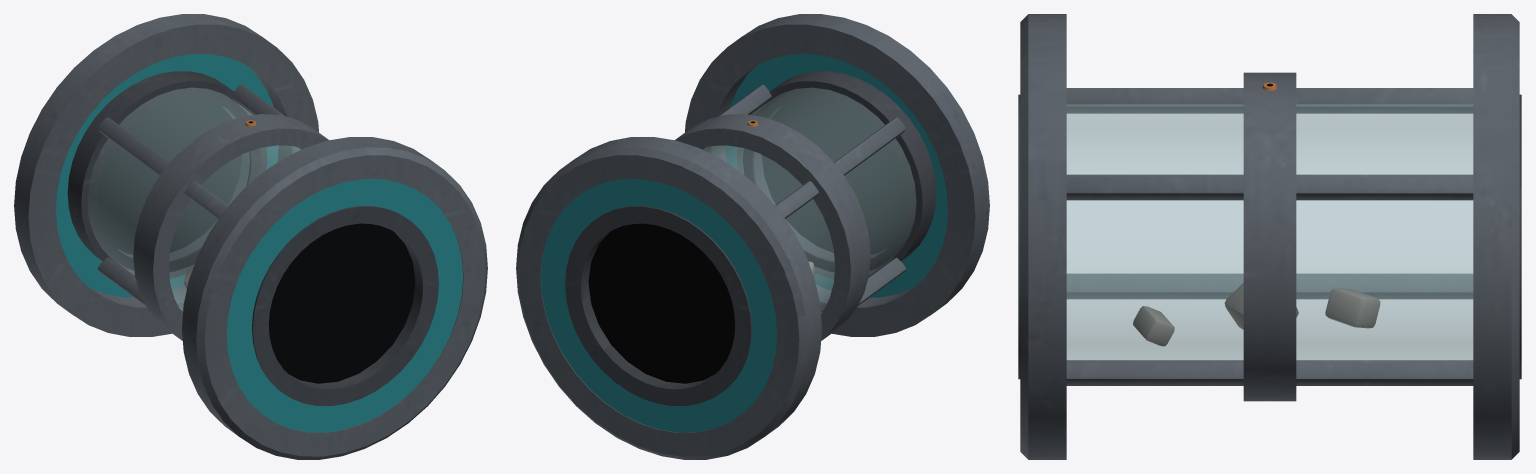
The model's file is vacuum_pipe.glb.
3 views of the same model, side by side, from view 1: azimuth 30°, elevation 25°; view 2: azimuth 150°, elevation 25°; view 3: azimuth 270°, elevation 25° (orthographic). The views are drawn at different scales.
Visible parts, largest first — view 1: Body; view 2: Body; view 3: Body.
Boxes of the visible parts, x1=… form: Body: x1=14, y1=14, x2=487, y2=459; Body: x1=516, y1=14, x2=989, y2=459; Body: x1=1018, y1=14, x2=1521, y2=459.
Size of the model in its own units: 0.2217 by 0.2217 by 0.25.
8 materials, 3 textured.
